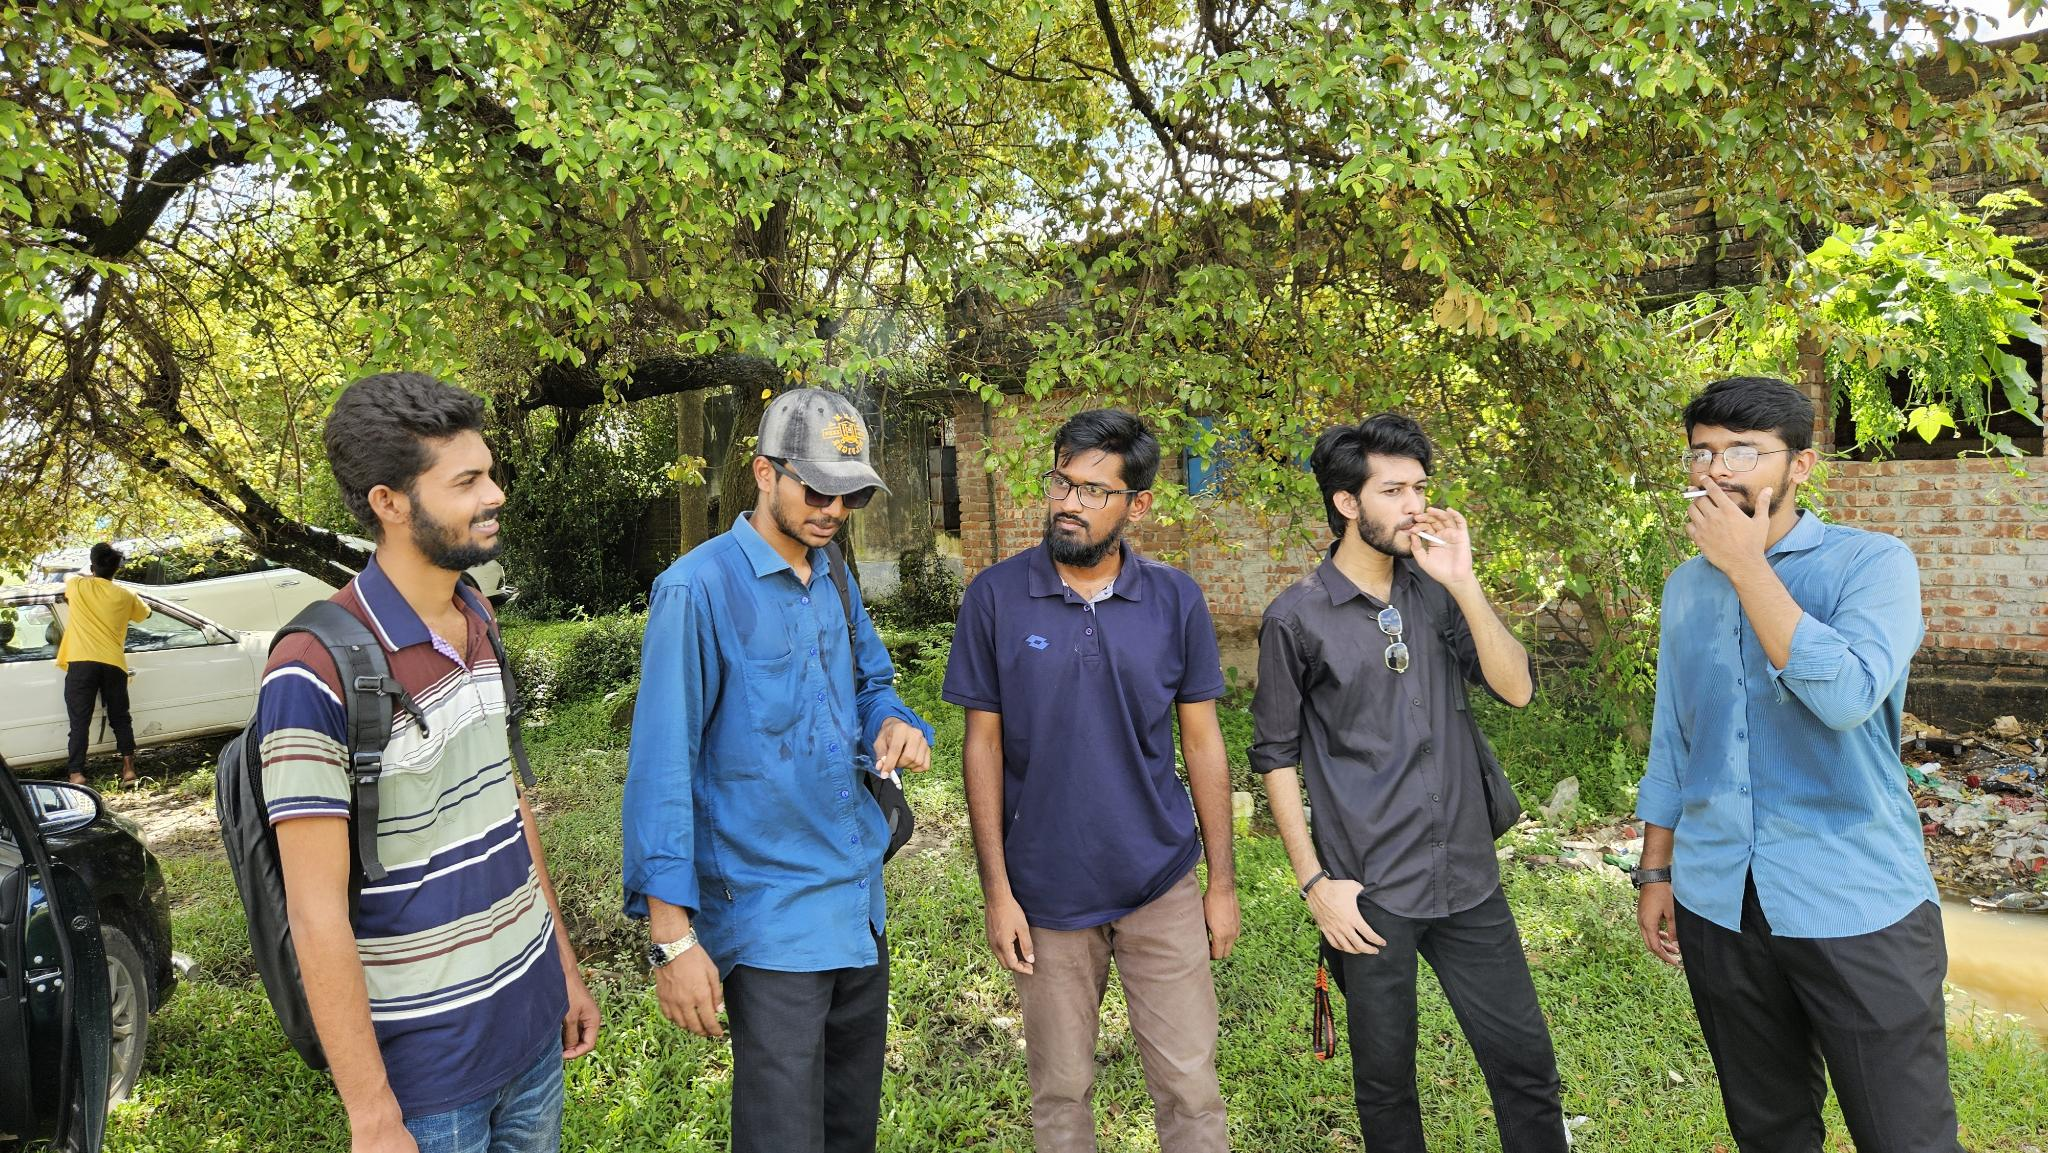cigarette: (1408, 527, 1452, 553), (1675, 487, 1709, 503), (886, 766, 906, 793)
nonSmoker: (228, 373, 601, 1153), (945, 409, 1236, 1153), (46, 533, 158, 799)
smoker: (1627, 377, 1947, 1153), (620, 384, 935, 1153), (1256, 412, 1571, 1153)
